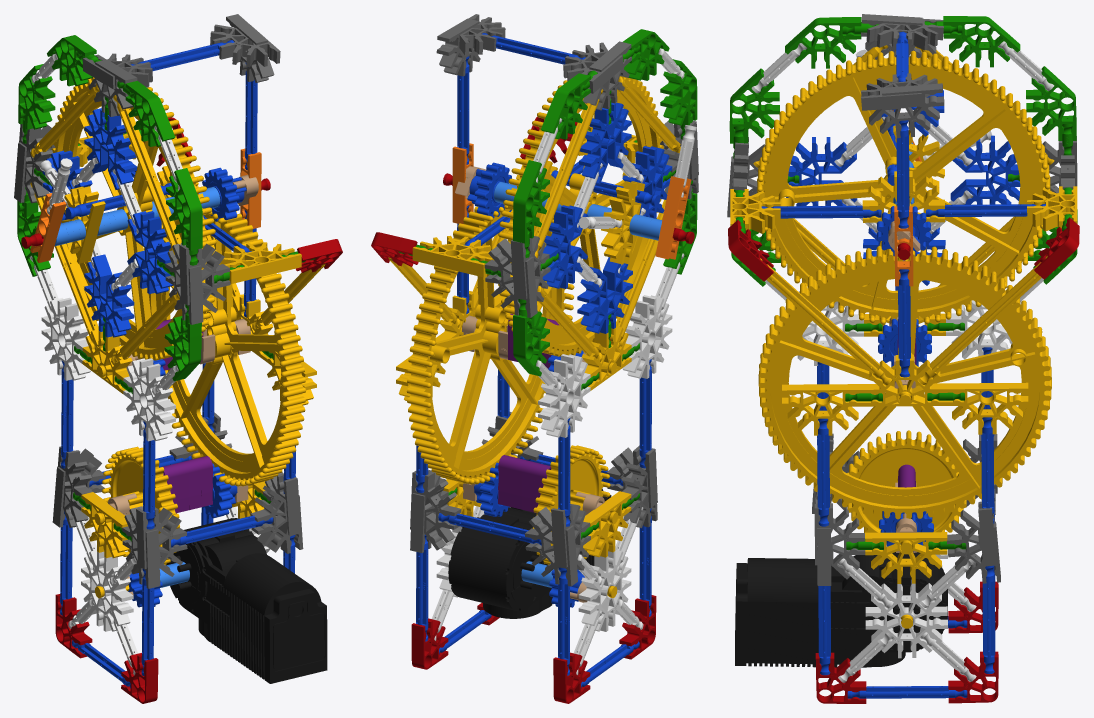
3 renders of one model, left to right at view 1: azimuth 30°, elevation 25°; view 2: azimuth 150°, elevation 25°; view 3: azimuth 270°, elevation 25°, orthographic.
Visible parts, largest first — view 1: S3_L19.004, S3_L19.002, S3_L19.003, S3_L19.008, S3_L19.006, S3_L19.005, S3_L19.001, S3_L19.007, S3_L19, S3_L19.009, S3_L19.010; view 2: S3_L19.004, S3_L19.002, S3_L19.003, S3_L19.006, S3_L19.005, S3_L19.008, S3_L19.001, S3_L19.007, S3_L19, S3_L19.009, S3_L19.010; view 3: S3_L19.004, S3_L19.002, S3_L19.008, S3_L19.003, S3_L19.005, S3_L19.006, S3_L19.001, S3_L19.007, S3_L19.010.
Boxes of the visible parts, x1,y1,x2,y2 form: S3_L19.004: (30, 77, 325, 598); S3_L19.002: (42, 40, 295, 688); S3_L19.003: (14, 14, 303, 588); S3_L19.008: (166, 518, 327, 683); S3_L19.006: (29, 53, 270, 675); S3_L19.005: (17, 35, 315, 541); S3_L19.001: (21, 117, 342, 703); S3_L19.007: (30, 148, 261, 262); S3_L19: (156, 319, 212, 513); S3_L19.009: (54, 187, 220, 587); S3_L19.010: (108, 175, 258, 595); S3_L19.004: (388, 76, 680, 598); S3_L19.002: (416, 33, 672, 688); S3_L19.003: (410, 14, 698, 586); S3_L19.006: (431, 48, 696, 675); S3_L19.005: (398, 29, 697, 539); S3_L19.008: (448, 488, 611, 618); S3_L19.001: (371, 116, 694, 703); S3_L19.007: (452, 143, 691, 259); S3_L19: (498, 313, 559, 512); S3_L19.009: (494, 182, 662, 587); S3_L19.010: (455, 166, 604, 602); S3_L19.004: (730, 45, 1077, 628); S3_L19.002: (761, 31, 1045, 698); S3_L19.008: (735, 551, 947, 667); S3_L19.003: (727, 14, 1077, 585); S3_L19.005: (729, 16, 1077, 549); S3_L19.006: (751, 41, 1054, 682); S3_L19.001: (728, 217, 1079, 703); S3_L19.007: (892, 110, 921, 286); S3_L19.010: (888, 221, 920, 552).
Bounding box in the file's own units: 1.27 × 3.05 × 1.58.
